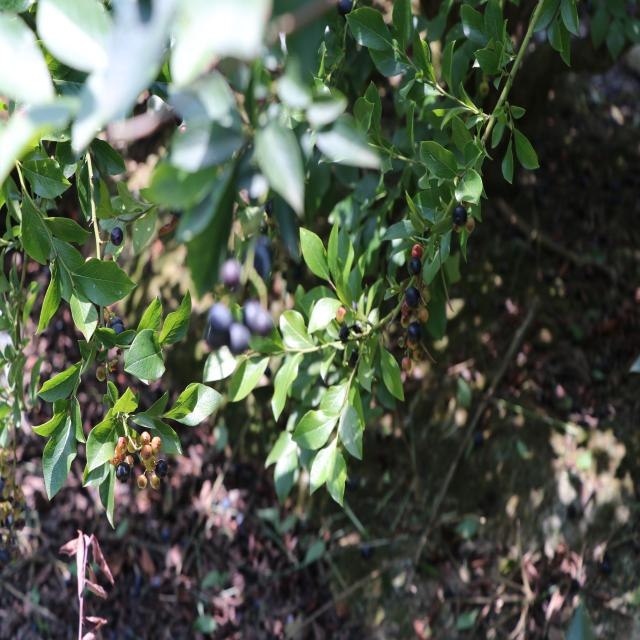blueberry: (405, 320, 423, 342), (404, 285, 420, 309), (452, 204, 468, 227), (115, 461, 131, 483), (110, 225, 124, 250), (155, 456, 167, 479), (409, 256, 422, 277), (106, 316, 124, 328), (110, 324, 126, 334)
blueberry-unripe: (126, 435, 138, 454), (109, 448, 122, 465), (116, 436, 126, 454), (145, 456, 156, 472), (137, 474, 148, 490), (96, 367, 108, 381), (141, 444, 152, 459), (140, 431, 151, 445), (151, 437, 161, 452), (150, 474, 160, 488), (124, 455, 134, 468)
